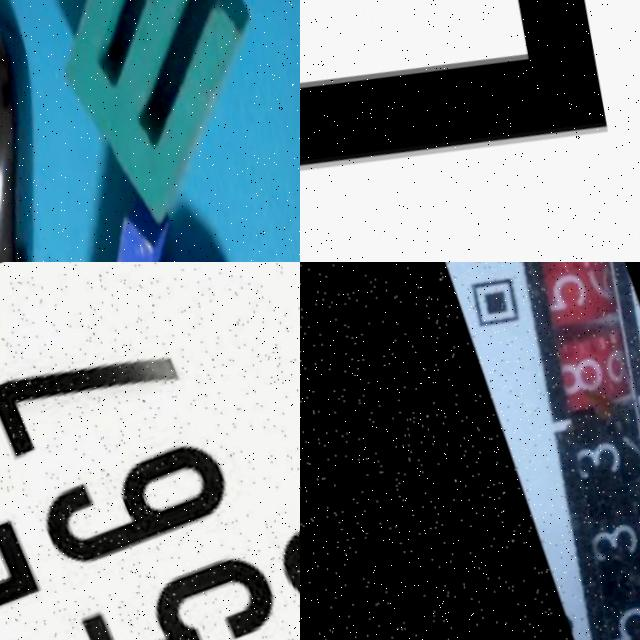3: (565, 431, 629, 488), (579, 514, 640, 567)
5: (63, 525, 296, 640), (530, 262, 592, 319), (596, 593, 640, 640)
6: (23, 411, 248, 587)
7: (0, 305, 198, 476)
8: (553, 345, 610, 400)
L: (300, 0, 615, 224)
M: (29, 0, 281, 209)
